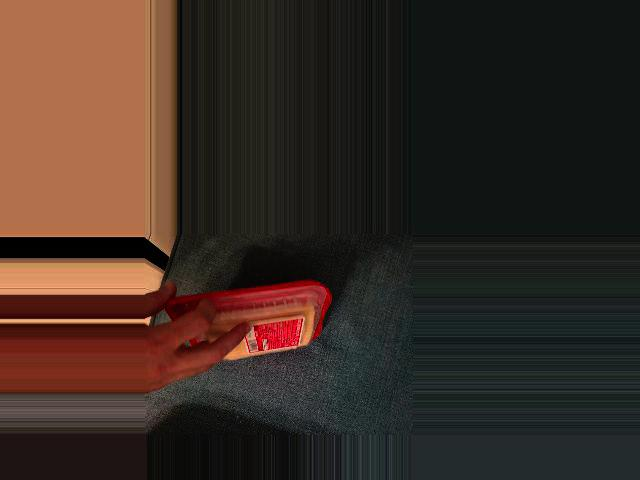cheese: (162, 277, 333, 373)
